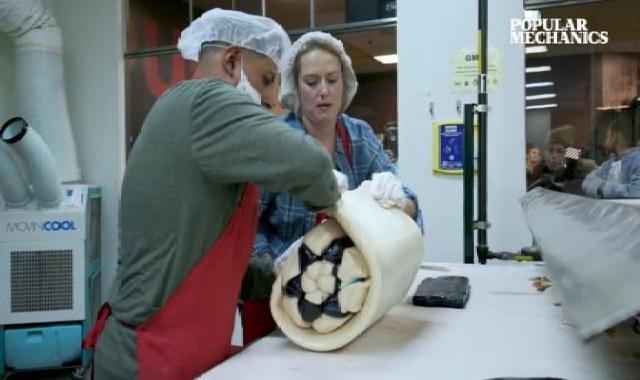hairnet: (165, 7, 296, 94), (293, 27, 360, 110)
